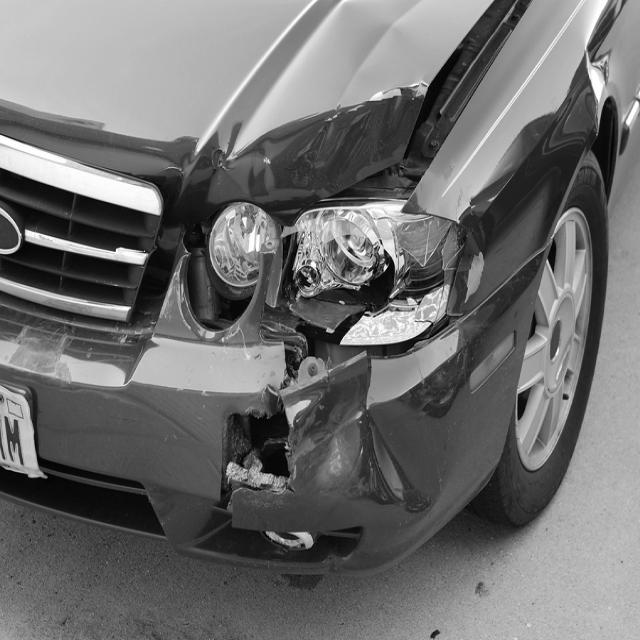crush: (0, 0, 640, 555)
